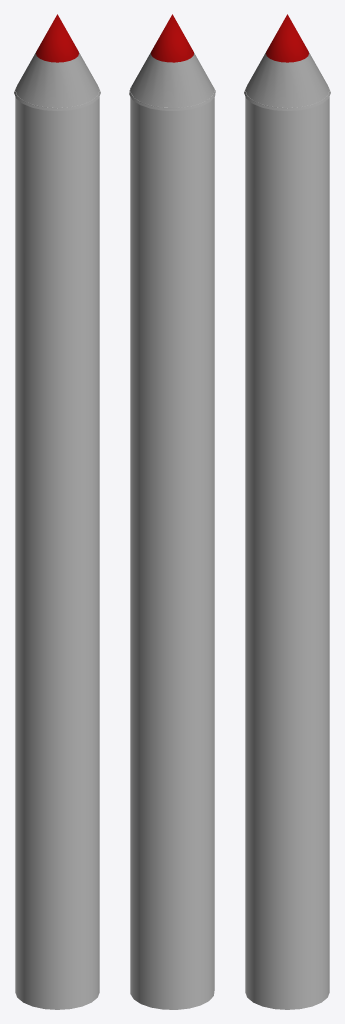
The model's file is pencil.fbx.
The picture shows the model from 3 angles, left to right: view 1: azimuth 90°, elevation 25°; view 2: azimuth 150°, elevation 25°; view 3: azimuth 270°, elevation 25°; orthographic projection.
Parts seen in each view (by area): view 1: pCylinder1, pCone1; view 2: pCylinder1, pCone1; view 3: pCylinder1, pCone1.
Part boxes in pixels (x1,y1,x2,y2): pCylinder1: (15, 85, 99, 1009); pCone1: (14, 14, 100, 110); pCylinder1: (130, 87, 214, 1009); pCone1: (129, 14, 215, 110); pCylinder1: (245, 85, 329, 1009); pCone1: (244, 14, 330, 110).
Bounding box in the file's own units: 1.64 × 20.35 × 1.64.
